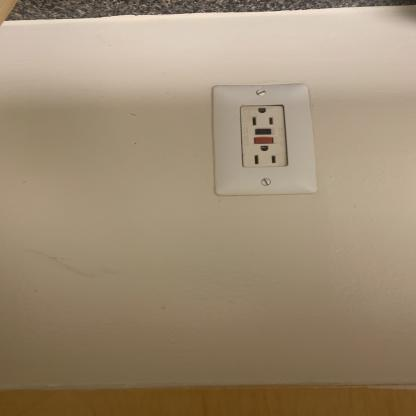OUTLET: (212, 85, 310, 198)
